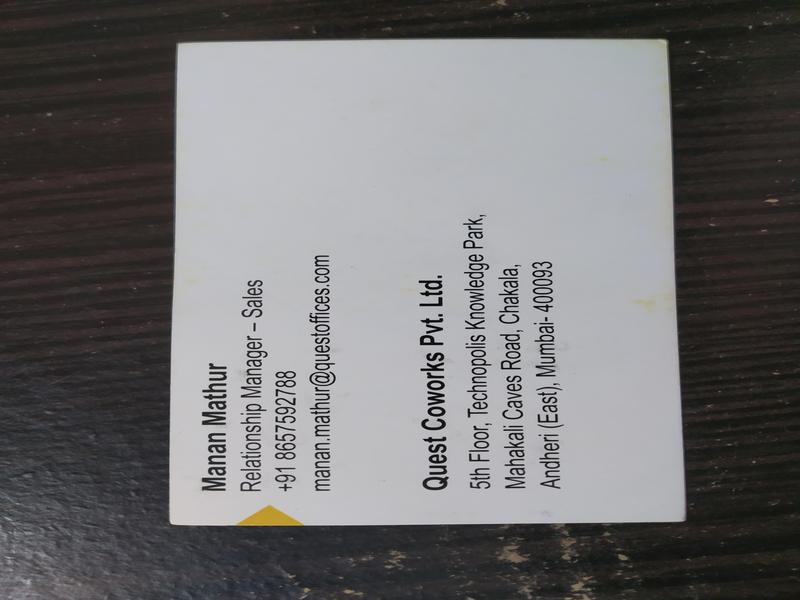card: (167, 38, 676, 526)
